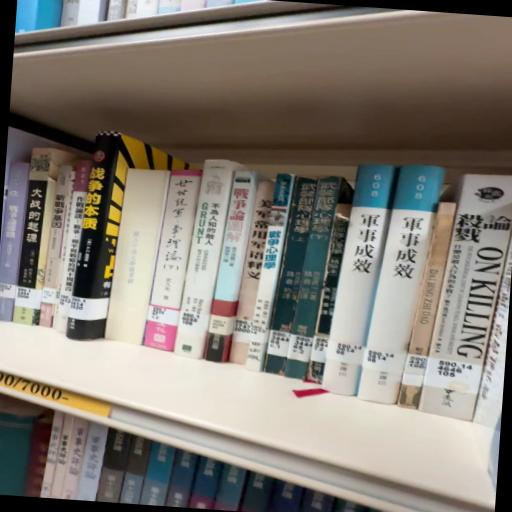backward: (105, 169, 170, 351)
book: (420, 173, 512, 428), (357, 162, 443, 409), (323, 166, 399, 404)
